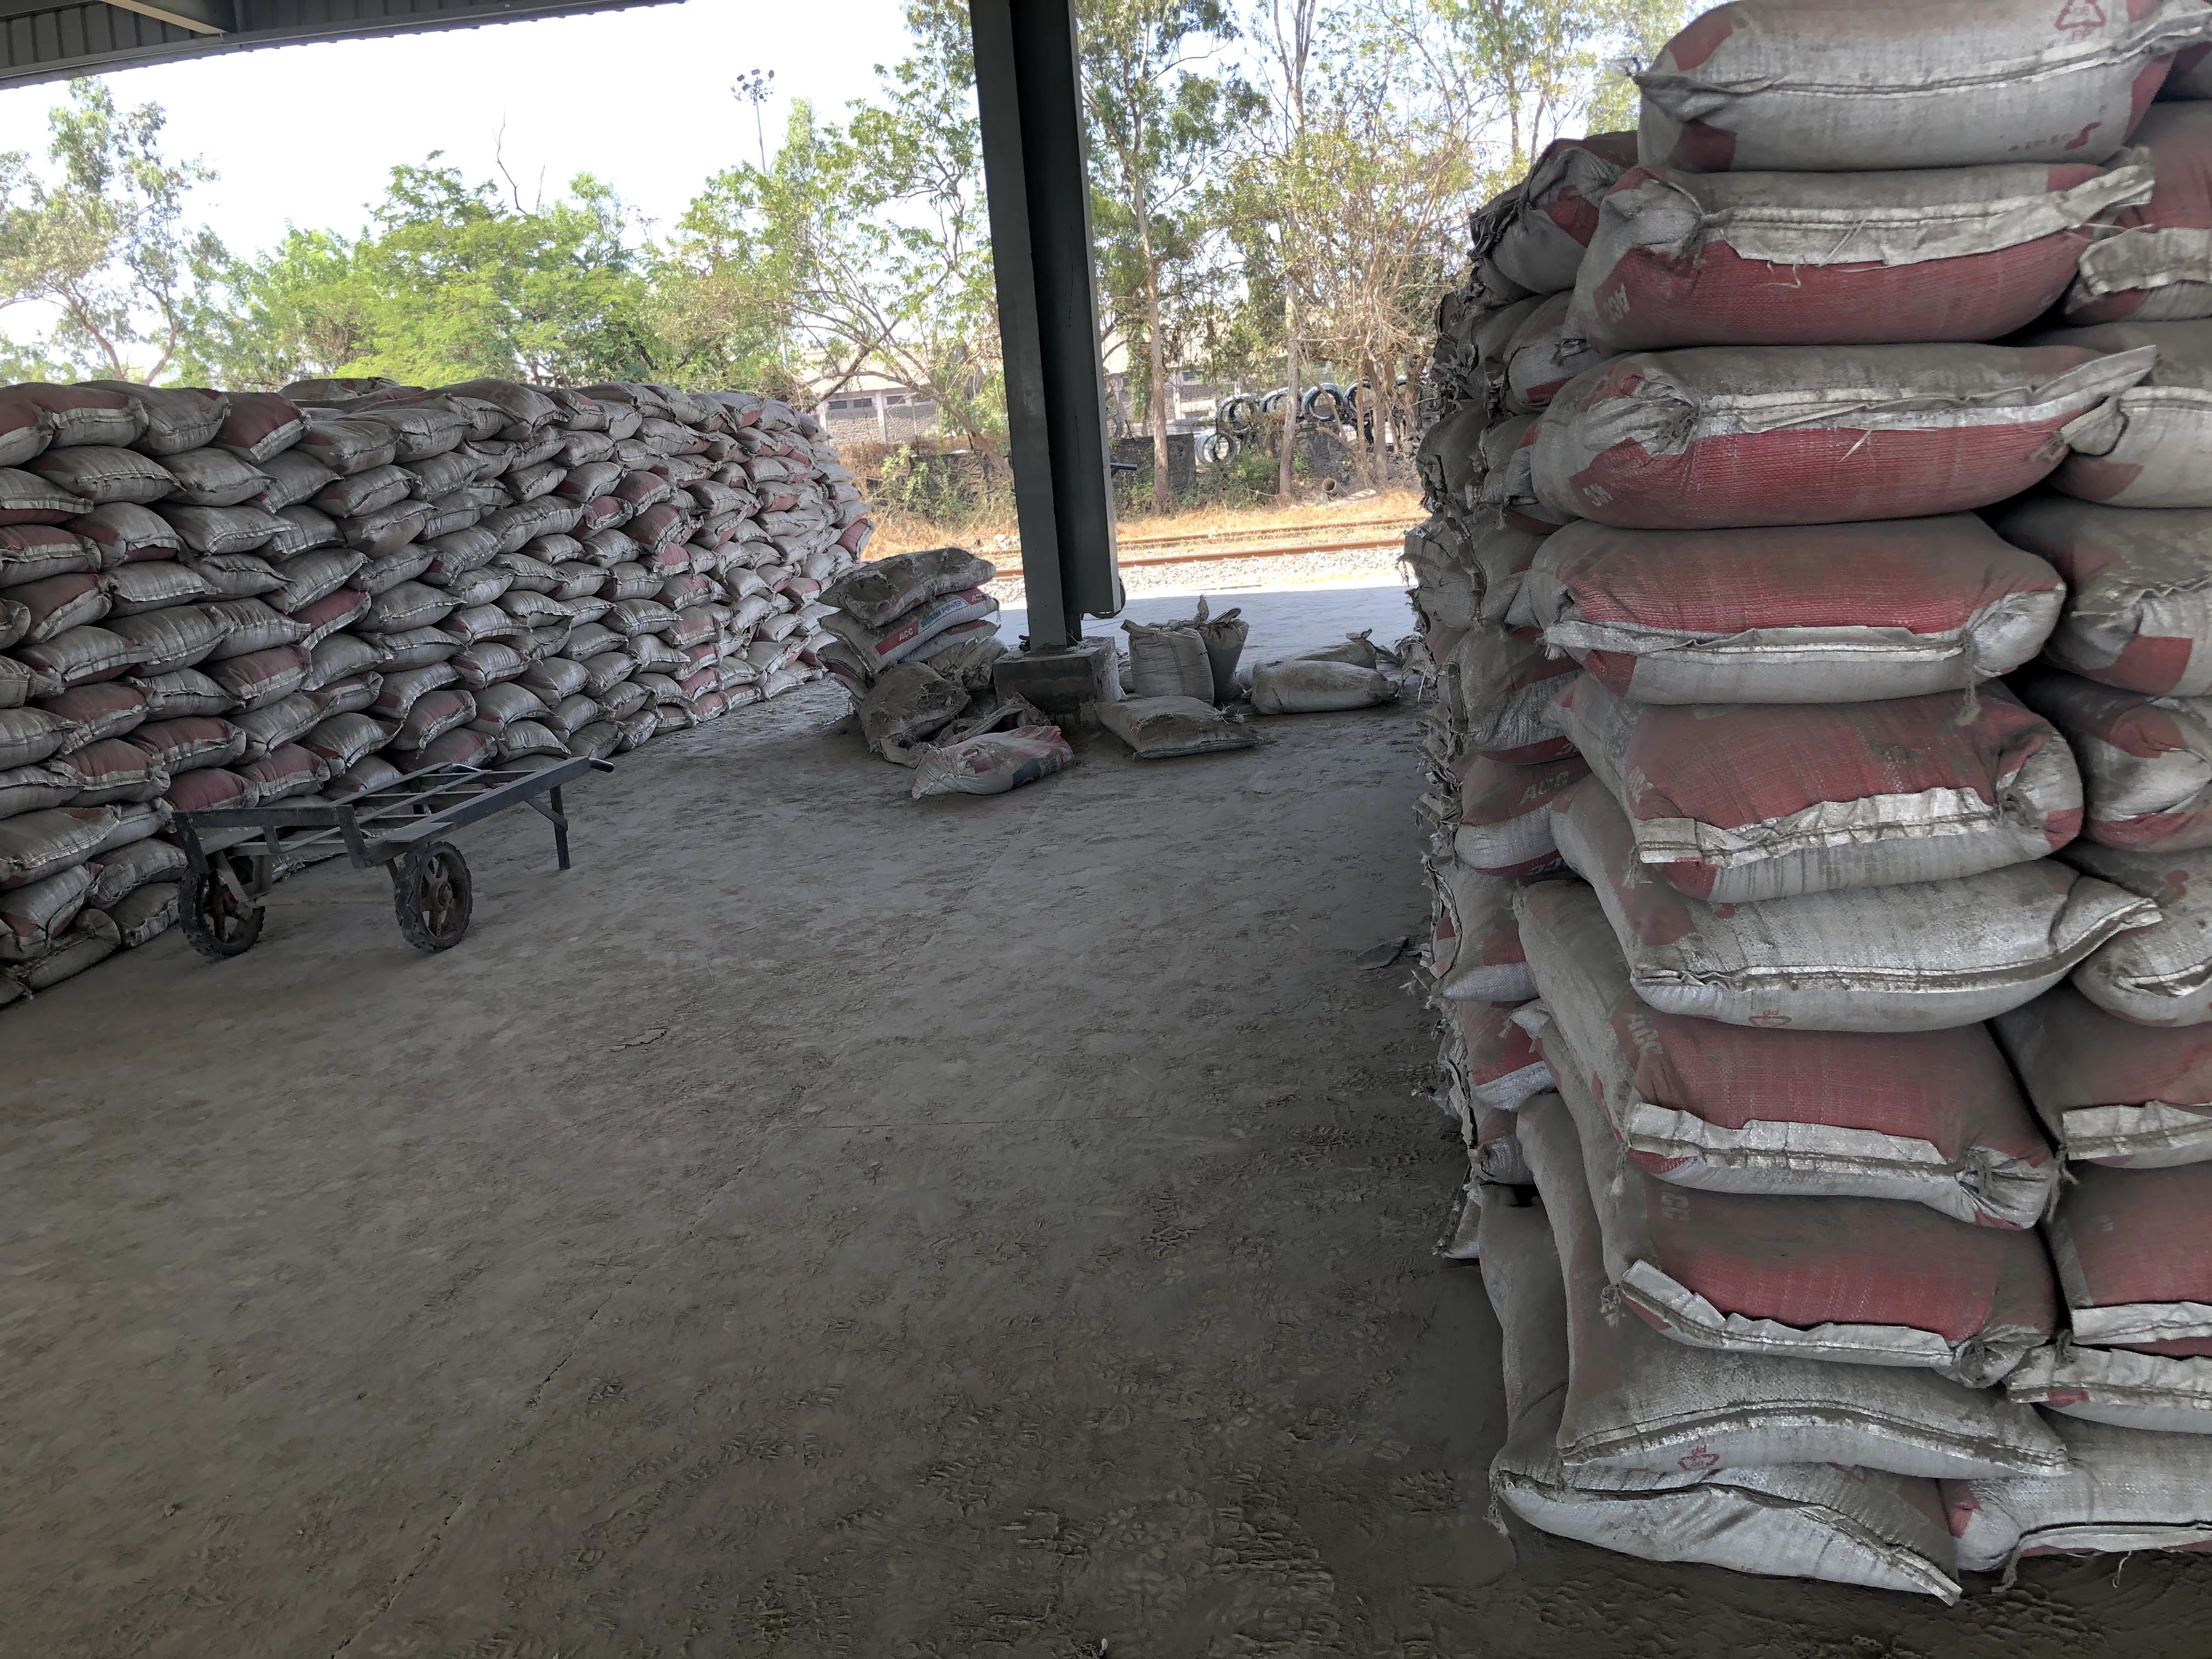cement bag: (1531, 335, 2141, 528), (1594, 1018, 2097, 1241), (1615, 1188, 2074, 1408), (1529, 538, 2097, 713), (1604, 880, 2156, 1049), (1581, 167, 2118, 335), (1569, 718, 2099, 887), (1634, 2, 2179, 157), (1580, 1356, 2097, 1493), (1503, 1460, 1958, 1591)
